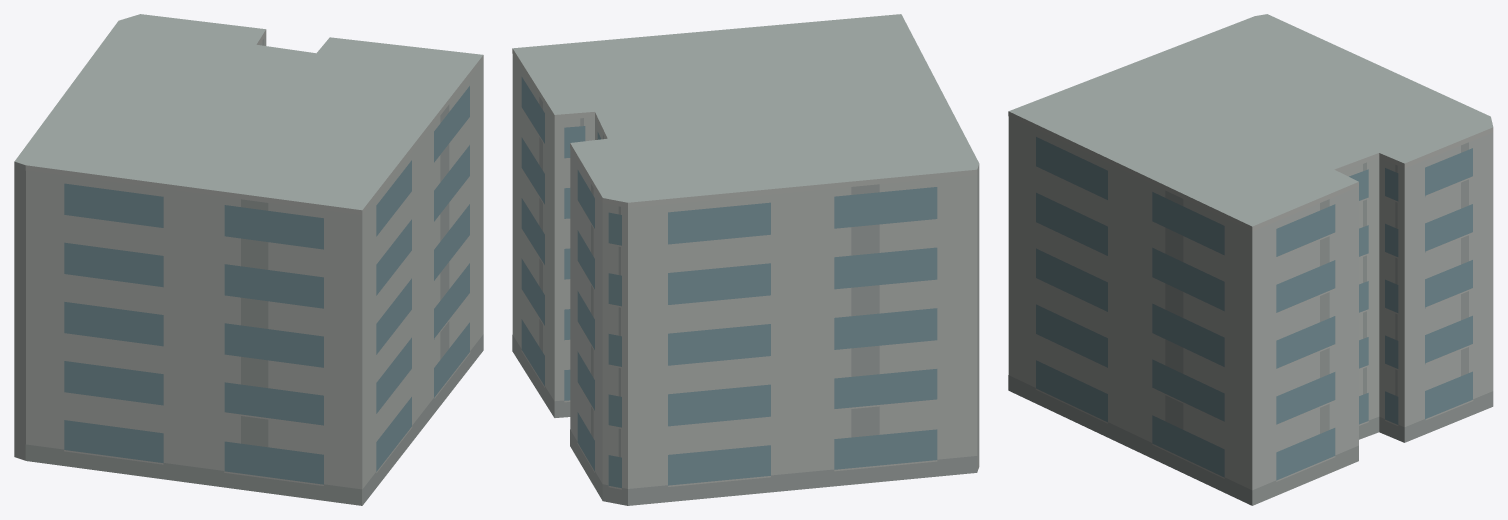
Rendered from survey-upis-32981252.glb.
The picture shows the model from 3 angles, left to right: view 1: azimuth 30°, elevation 25°; view 2: azimuth 150°, elevation 25°; view 3: azimuth 270°, elevation 25°; orthographic projection. The views are drawn at different scales.
Parts seen in each view (by area): view 1: survey-upis-32981252.tmp; view 2: survey-upis-32981252.tmp; view 3: survey-upis-32981252.tmp.
Boxes of the visible parts, x1,y1,x2,y2 form: survey-upis-32981252.tmp: [14, 14, 483, 505]; survey-upis-32981252.tmp: [512, 14, 979, 505]; survey-upis-32981252.tmp: [1008, 14, 1493, 505].
Bounding box in the file's own units: 22.37 × 13.7 × 21.56.
